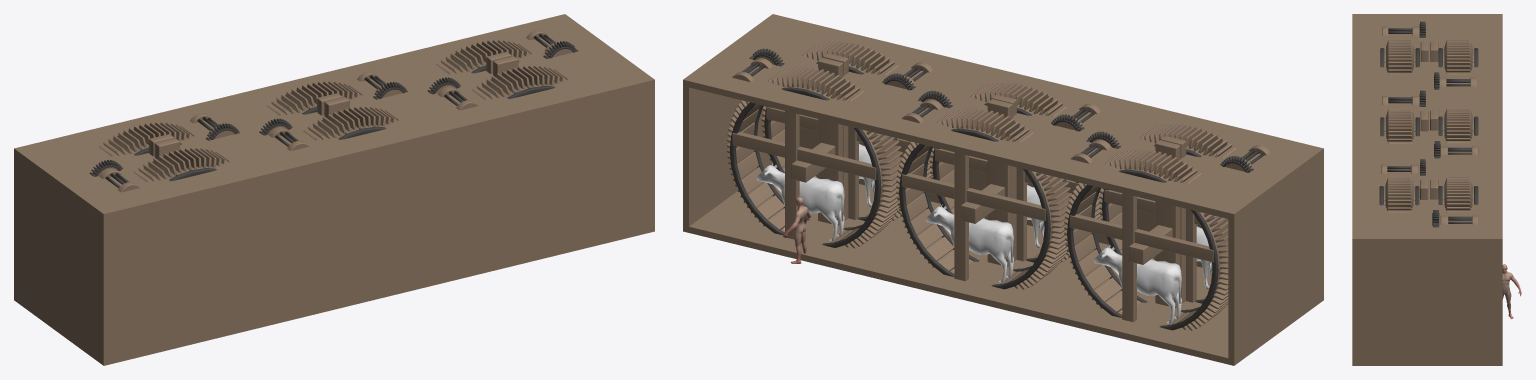
Rendered from ox_train.gltf.
3 views of the same model, side by side, from view 1: azimuth 30°, elevation 25°; view 2: azimuth 150°, elevation 25°; view 3: azimuth 270°, elevation 25° (orthographic). The views are drawn at different scales.
Visible parts, largest first — view 1: Cube-col.001, ox_train.017-col, ox_train.064-col, ox_train.053-col, ox_train.004-col, ox_train.039-col, ox_train.028-col; view 2: Cube-col.001, ox_train.004-col, ox_train.028-col, ox_train.041-col, ox_train.030-col, ox_train.039-col, ox_train.008-col, ox_train.024-col, ox_train.035-col, ox_train-col, ox_train.025-col, ox_train.036-col (+19 smaller); view 3: Cube-col.001, ox_train.004-col, ox_train.053-col, ox_train.017-col, ox_train.039-col, ox_train.028-col, ox_train.064-col, Man.001, ox_train.011-col, ox_train.050-col, ox_train.059-col, ox_train.014-col (+16 smaller).
Part boxes in pixels (<box>): Cube-col.001: <box>14,14,654,365</box>; ox_train.017-col: <box>472,65,568,100</box>; ox_train.064-col: <box>133,148,230,182</box>; ox_train.053-col: <box>303,106,400,140</box>; ox_train.004-col: <box>436,40,533,74</box>; ox_train.039-col: <box>99,122,195,156</box>; ox_train.028-col: <box>267,81,363,115</box>; Cube-col.001: <box>683,14,1323,365</box>; ox_train.004-col: <box>727,67,902,248</box>; ox_train.028-col: <box>896,108,1071,289</box>; ox_train.041-col: <box>1069,193,1213,322</box>; ox_train.030-col: <box>901,152,1045,281</box>; ox_train.039-col: <box>1064,149,1228,330</box>; ox_train.008-col: <box>732,111,876,239</box>; ox_train.024-col: <box>905,127,1062,283</box>; ox_train.035-col: <box>1073,168,1227,325</box>; ox_train-col: <box>736,85,893,242</box>; ox_train.025-col: <box>899,117,1070,289</box>; ox_train.036-col: <box>1067,158,1218,330</box>; Cube-col.001: <box>1352,14,1502,365</box>; ox_train.004-col: <box>1444,177,1472,212</box>; ox_train.053-col: <box>1385,109,1414,143</box>; ox_train.017-col: <box>1385,178,1413,212</box>; ox_train.039-col: <box>1444,40,1472,74</box>; ox_train.028-col: <box>1444,108,1472,143</box>; ox_train.064-col: <box>1386,40,1414,74</box>; Man.001: <box>1502,264,1521,318</box>; ox_train.011-col: <box>1448,216,1472,223</box>; ox_train.050-col: <box>1380,117,1419,136</box>; ox_train.059-col: <box>1420,110,1428,131</box>; ox_train.014-col: <box>1379,186,1419,205</box>.
Bounding box in the file's own units: 15.68 × 4.8 × 4.99.
Materials: 5 (2 with a texture image).
